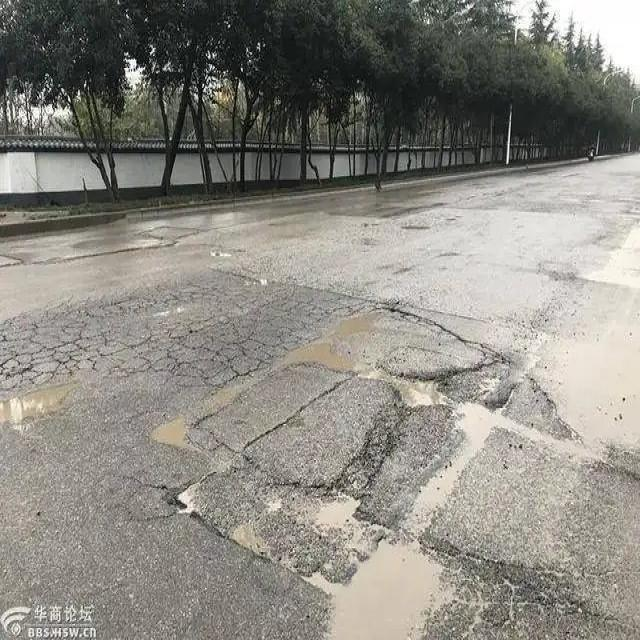pothole: (169, 443, 501, 639), (287, 291, 525, 427), (0, 381, 108, 428)
